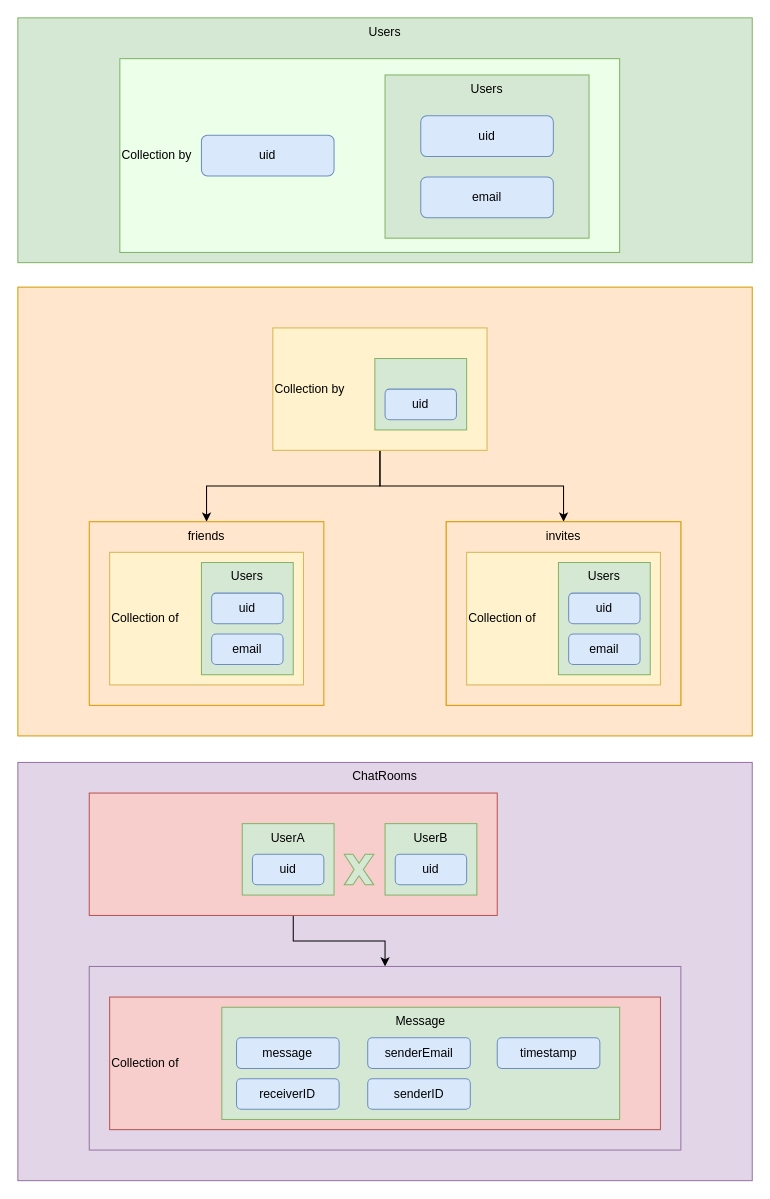
The diagram is 770 pixels wide and 1199 high, and some of its shapes have lost their labels. Here are the shapes that lost their labels. From the top down, the box of each, then its label:
(374, 358, 467, 430): User
(17, 286, 752, 736): Connections
(88, 792, 497, 915): Collection by [sorted & concatenated]
(88, 965, 681, 1150): messages
